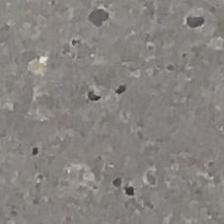Non_Crack: (22, 60, 224, 219)
